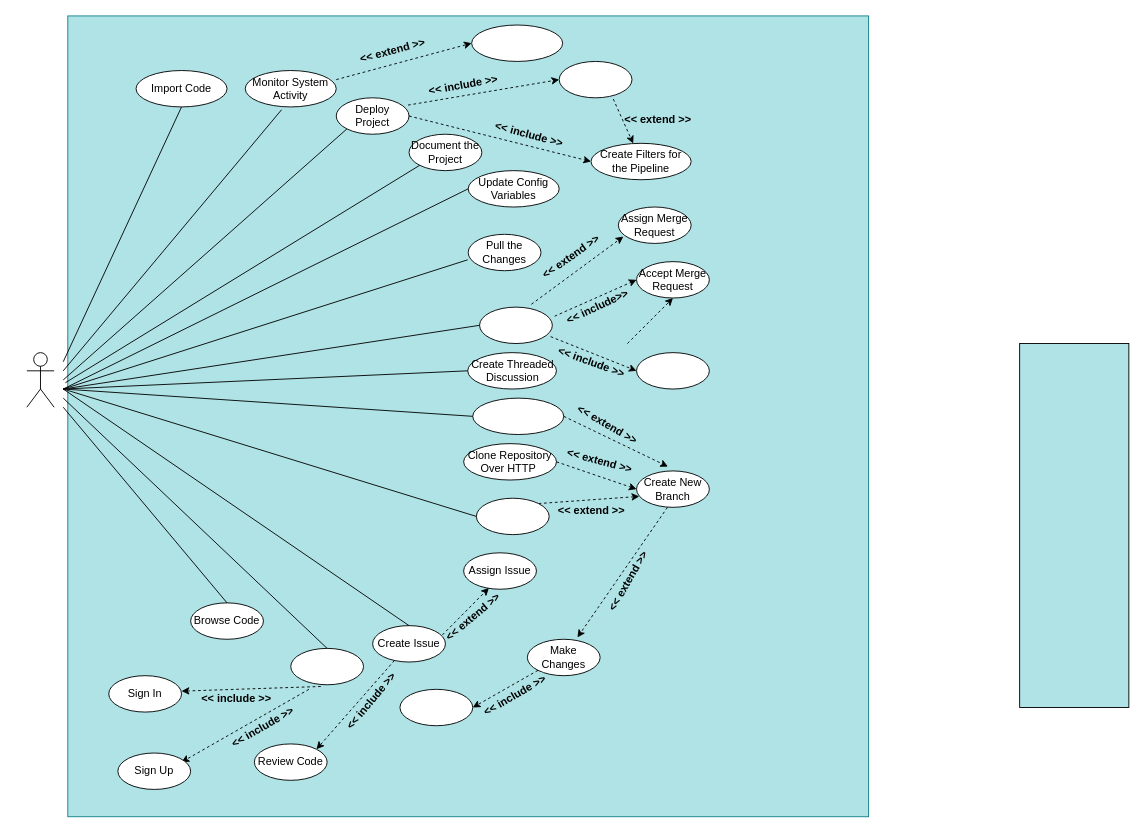
The diagram is 1145 pixels wide and 833 high, and some of its shapes have lost their labels. Each missing label, with the centre of its shape:
"Authentication" belongs at (327,666).
"Clone Repository Over SSH" belongs at (518,416).
"Create CI/CD pipeline" belongs at (595,79).
"Create Merge Request" belongs at (515,325).
"Create Repository" belongs at (512,516).
"Decline Merge Request" belongs at (672,370).
"Developer" belongs at (40,379).
"Monitor Logs" belongs at (517,42).
"Push Commit" belongs at (436,707).
